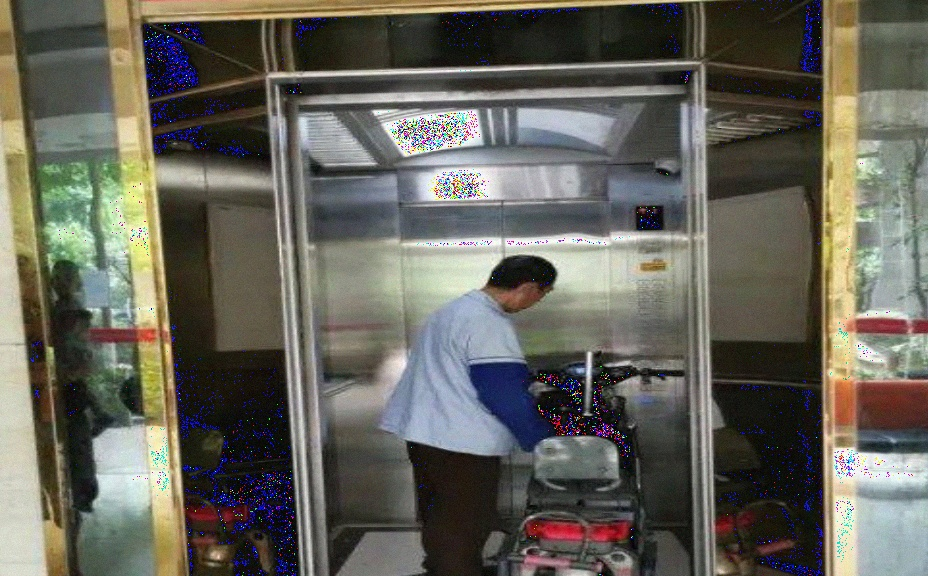ebike: (484, 362, 687, 576)
person: (403, 257, 553, 575)
